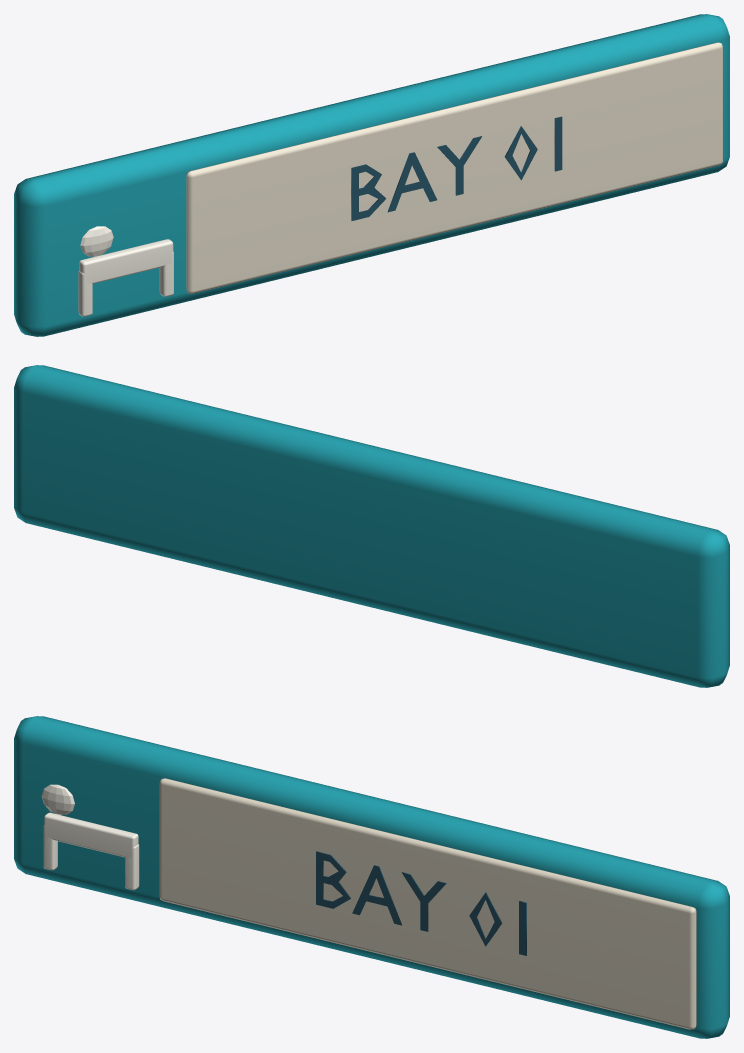
File: Clinical_Sign_Bay01.glb
3 views of the same model, one above another, from view 1: azimuth 30°, elevation 25°; view 2: azimuth 150°, elevation 25°; view 3: azimuth 330°, elevation 25° (orthographic).
Parts seen in each view (by area): view 1: Clinical_Sign_Bay01_cream, Clinical_Sign_Bay01_teal, Clinical_Sign_Bay01_paper, Clinical_Sign_Bay01_navy; view 2: Clinical_Sign_Bay01_teal; view 3: Clinical_Sign_Bay01_cream, Clinical_Sign_Bay01_teal, Clinical_Sign_Bay01_paper, Clinical_Sign_Bay01_navy.
Boxes of the visible parts, x1,y1,x2,y2 form: Clinical_Sign_Bay01_cream: (186, 42, 722, 293); Clinical_Sign_Bay01_teal: (14, 14, 729, 336); Clinical_Sign_Bay01_paper: (78, 226, 173, 316); Clinical_Sign_Bay01_navy: (351, 116, 562, 220); Clinical_Sign_Bay01_teal: (14, 365, 729, 687); Clinical_Sign_Bay01_cream: (159, 778, 696, 1029); Clinical_Sign_Bay01_teal: (14, 716, 729, 1038); Clinical_Sign_Bay01_paper: (41, 784, 139, 890); Clinical_Sign_Bay01_navy: (316, 851, 526, 955).
Size of the model in its own units: 1.48 by 0.31 by 0.122.
